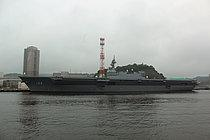MIL_Ship: (18, 59, 198, 93)
